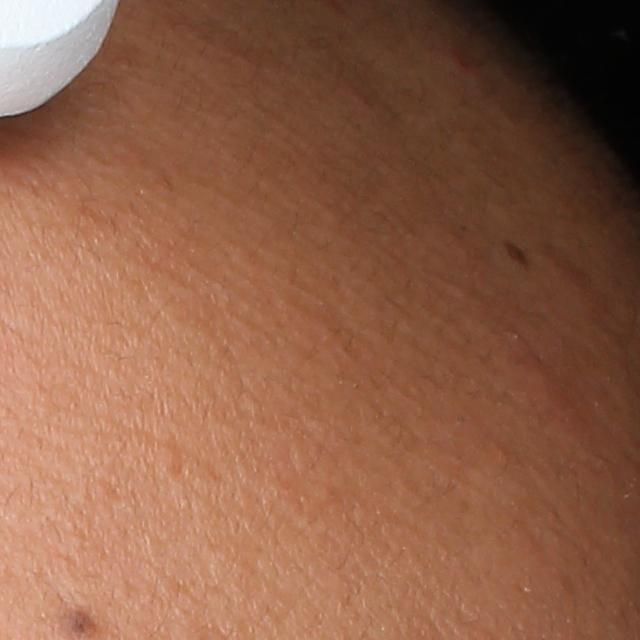comedo: (154, 439, 182, 478)
nevus: (498, 236, 530, 274)
